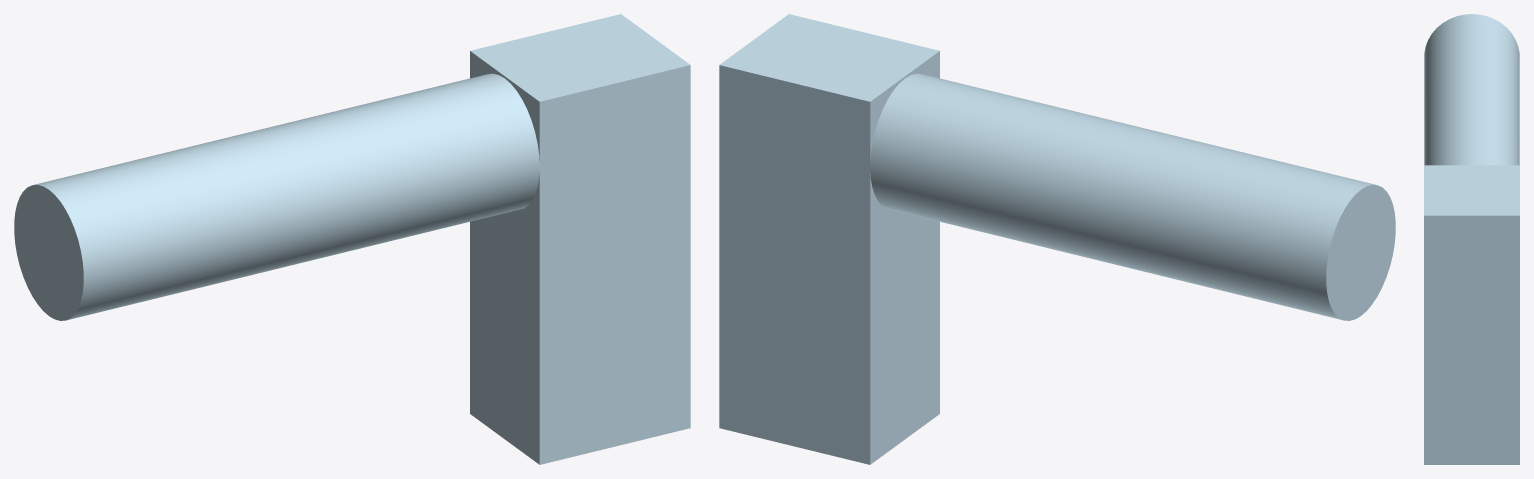
The picture shows the model from 3 angles, left to right: view 1: azimuth 30°, elevation 25°; view 2: azimuth 150°, elevation 25°; view 3: azimuth 270°, elevation 25°; orthographic projection. The views are drawn at different scales.
Visible parts, largest first — view 1: ID2; view 2: ID2; view 3: ID2.
Part boxes in pixels (left/top/right/bottom): ID2: left=14, top=14, right=690, bottom=464; ID2: left=719, top=14, right=1395, bottom=464; ID2: left=1424, top=14, right=1519, bottom=464.
Bounding box in the file's own units: 0.201 × 0.04 × 0.1149.
